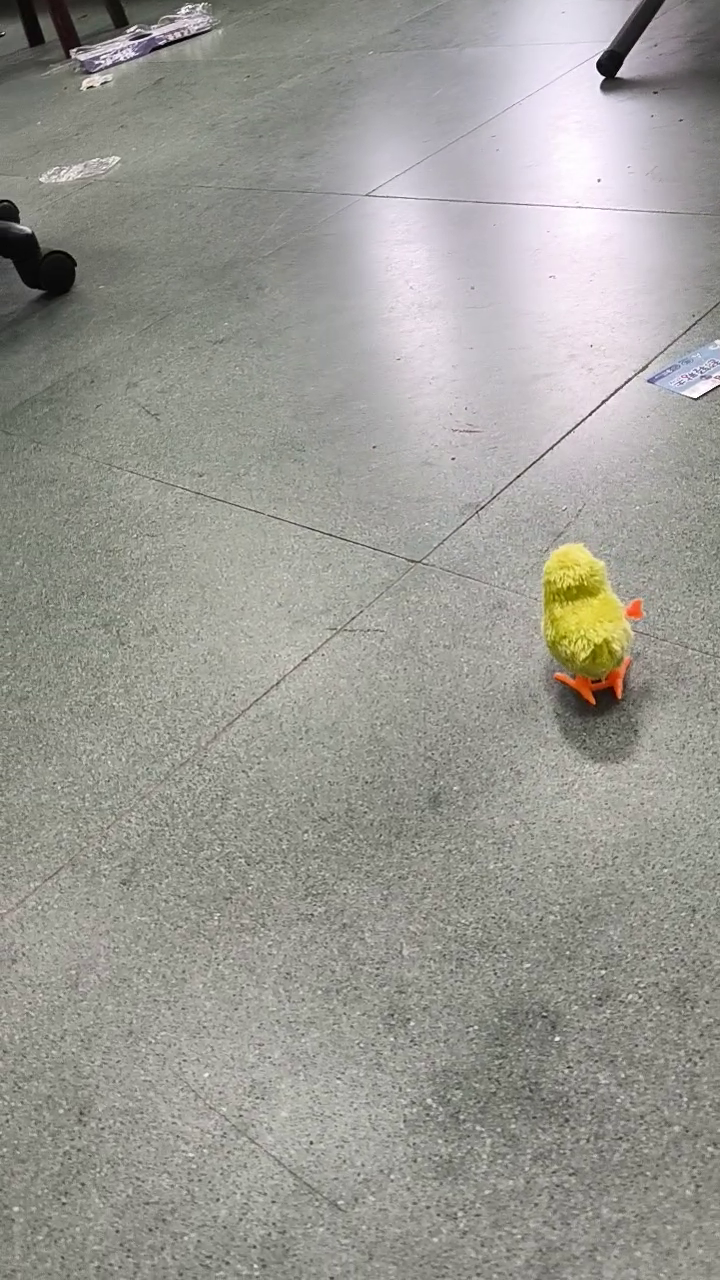yellow chicken: (539, 538, 649, 711)
